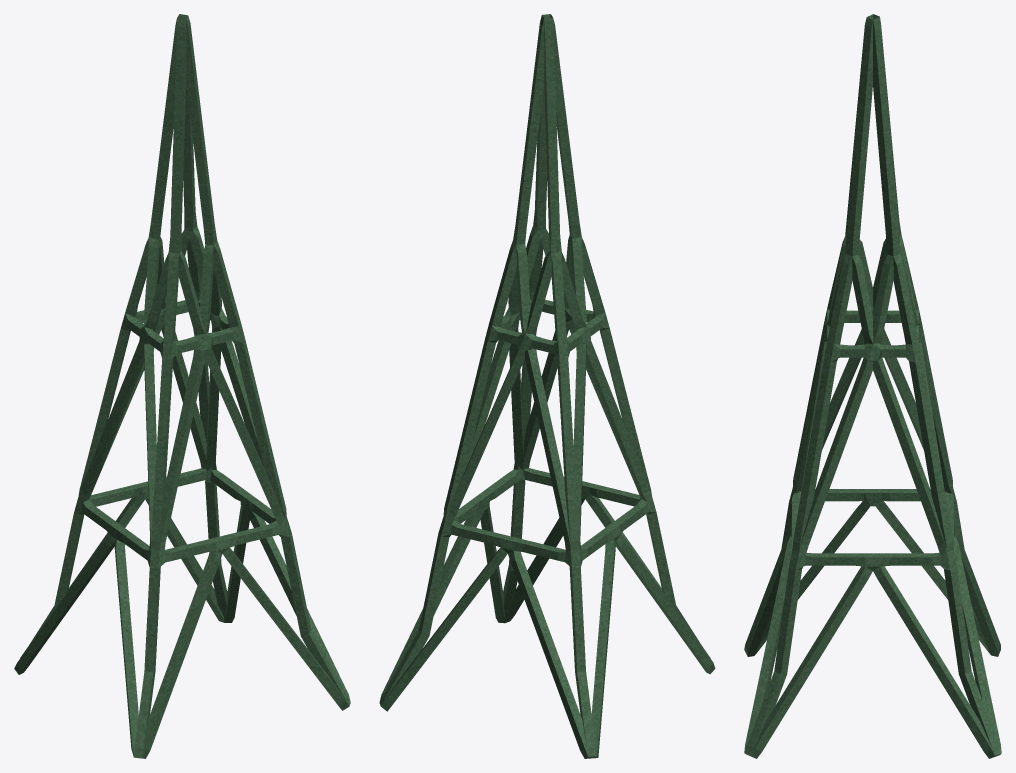
File: Tower.fbx
3 views of the same model, side by side, from view 1: azimuth 30°, elevation 25°; view 2: azimuth 150°, elevation 25°; view 3: azimuth 270°, elevation 25° (orthographic). The views are drawn at different scales.
Parts seen in each view (by area): view 1: Tower; view 2: Tower; view 3: Tower.
Boxes of the visible parts, bbox=[...] form: Tower: bbox=[14, 14, 350, 758]; Tower: bbox=[379, 14, 715, 758]; Tower: bbox=[744, 14, 1001, 758].
Bounding box in the file's own units: 3.61 × 3.62 × 10.7.
